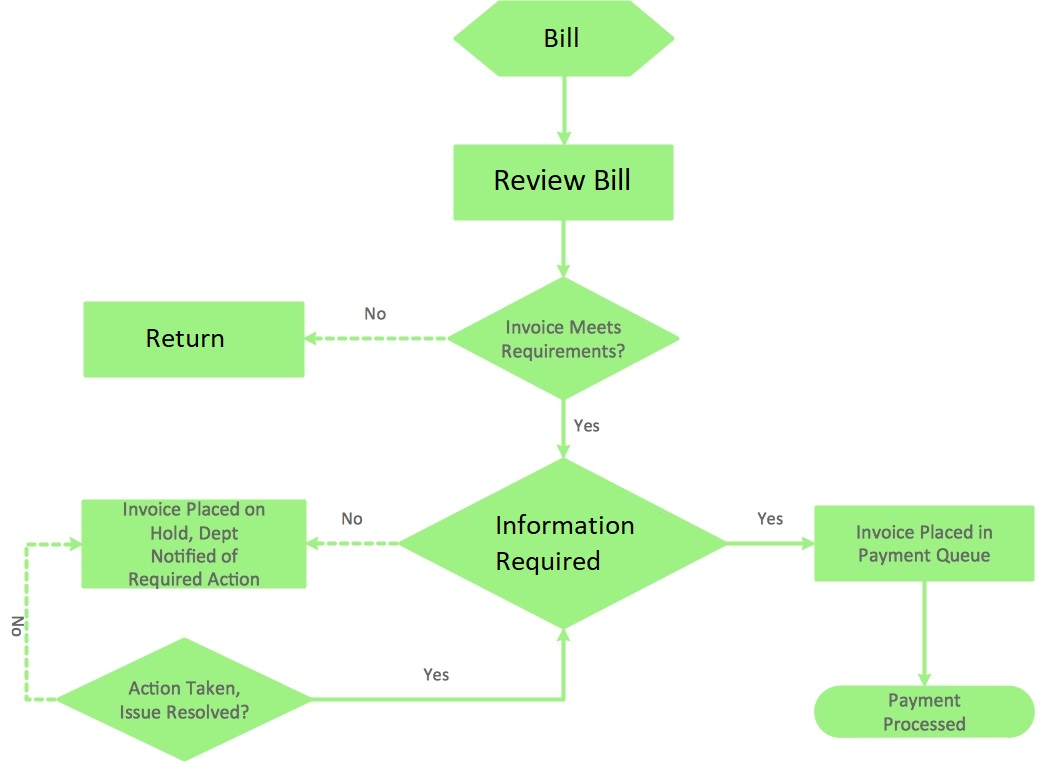arrow: (305, 625, 573, 707), (18, 536, 81, 706), (302, 329, 449, 344), (913, 578, 932, 686), (719, 534, 816, 551), (305, 533, 402, 550), (553, 215, 573, 283), (556, 70, 573, 146), (556, 396, 573, 457)
decision: (395, 455, 732, 635), (53, 633, 313, 764), (444, 276, 682, 401)
process: (76, 493, 312, 593), (810, 501, 1039, 585), (79, 297, 309, 380), (448, 141, 677, 223), (449, 2, 676, 80)
terminator: (811, 682, 1037, 742)
text: (119, 497, 268, 589), (491, 511, 639, 577), (853, 521, 998, 566), (499, 316, 629, 364), (118, 677, 249, 721), (491, 165, 636, 192), (880, 692, 968, 732), (142, 323, 226, 349), (540, 23, 584, 50), (754, 506, 786, 528), (570, 414, 602, 436), (422, 663, 452, 682), (338, 509, 365, 528), (362, 305, 388, 322), (11, 614, 24, 639)
